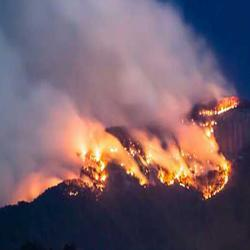fire: (80, 142, 104, 182), (161, 158, 187, 184), (207, 157, 233, 181)
smoke: (76, 4, 176, 107)
